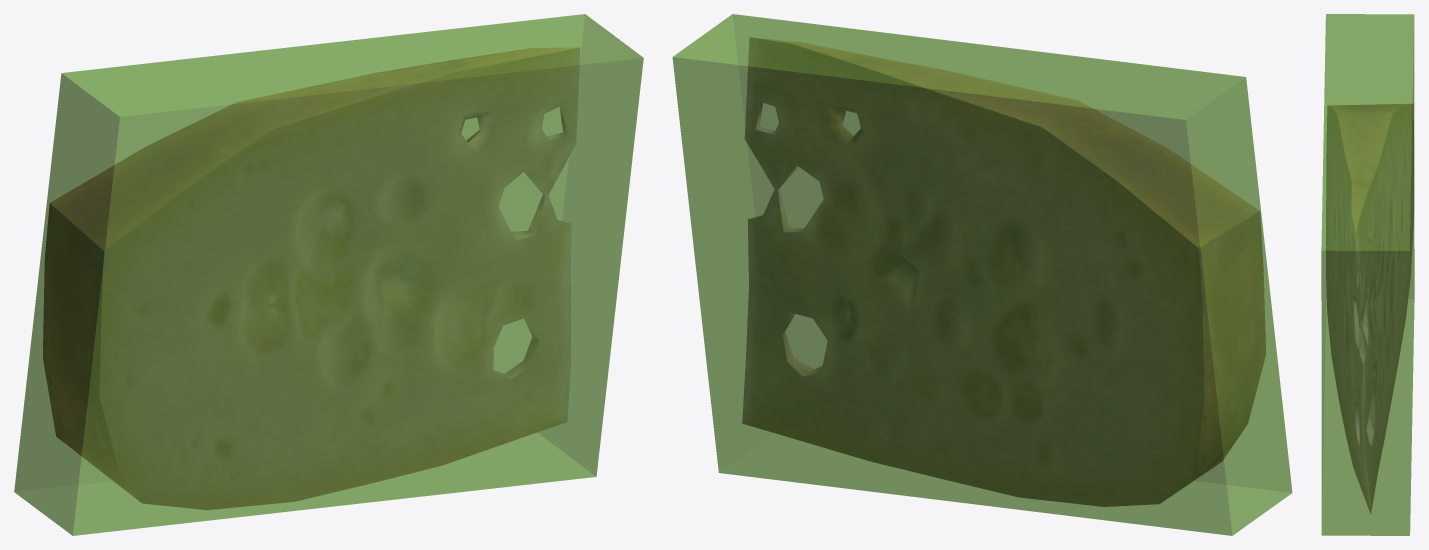
Rendered from pg_Cheese_05.fbx.
The picture shows the model from 3 angles, left to right: view 1: azimuth 30°, elevation 25°; view 2: azimuth 150°, elevation 25°; view 3: azimuth 270°, elevation 25°; orthographic projection. The views are drawn at different scales.
Visible parts, largest first — view 1: pg_Cheese_05_a_col, pg_Cheese_05_a_LOD0; view 2: pg_Cheese_05_a_col, pg_Cheese_05_a_LOD0; view 3: pg_Cheese_05_a_col, pg_Cheese_05_a_LOD0.
Boxes of the visible parts, x1,y1,x2,y2 form: pg_Cheese_05_a_col: (14,14,643,535); pg_Cheese_05_a_LOD0: (43,47,580,509); pg_Cheese_05_a_col: (672,14,1292,535); pg_Cheese_05_a_LOD0: (742,37,1265,506); pg_Cheese_05_a_col: (1321,14,1414,535); pg_Cheese_05_a_LOD0: (1326,103,1414,514).
Size of what is drawn, in the model's own units: 24.57 by 19.54 by 4.71.
2 materials, 1 textured.
